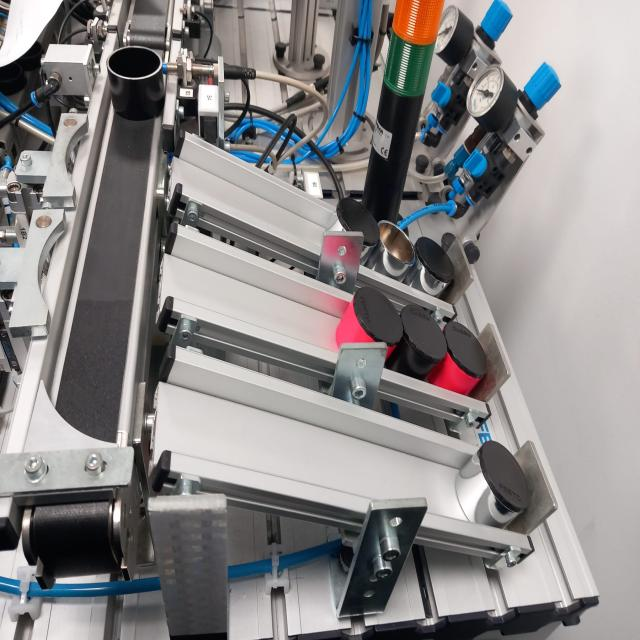NoLid: (101, 30, 179, 124), (378, 210, 417, 286)
Workpiece: (454, 436, 532, 538), (338, 278, 402, 379), (399, 294, 445, 392), (442, 302, 486, 400), (328, 188, 380, 267), (419, 216, 458, 298)
